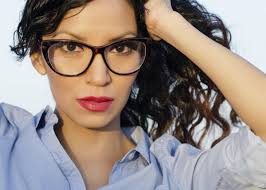Glasses: (38, 32, 151, 79)
